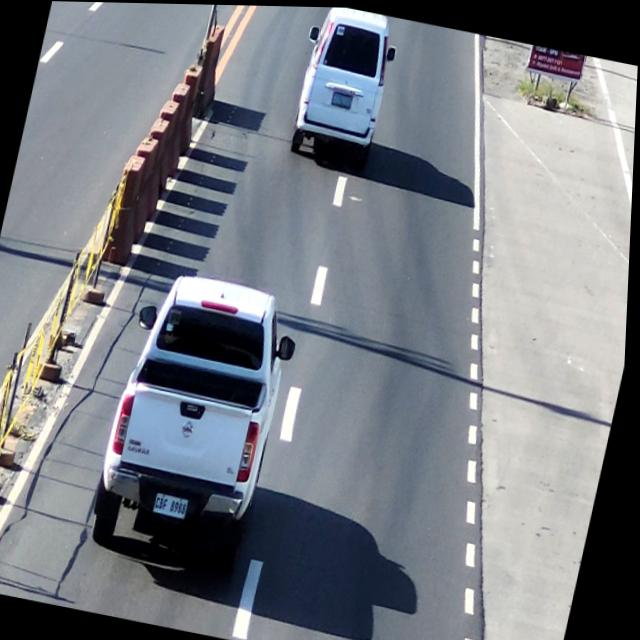Car: (92, 266, 305, 578), (282, 5, 402, 167)
License-Plate: (155, 490, 194, 523), (328, 85, 357, 109)
